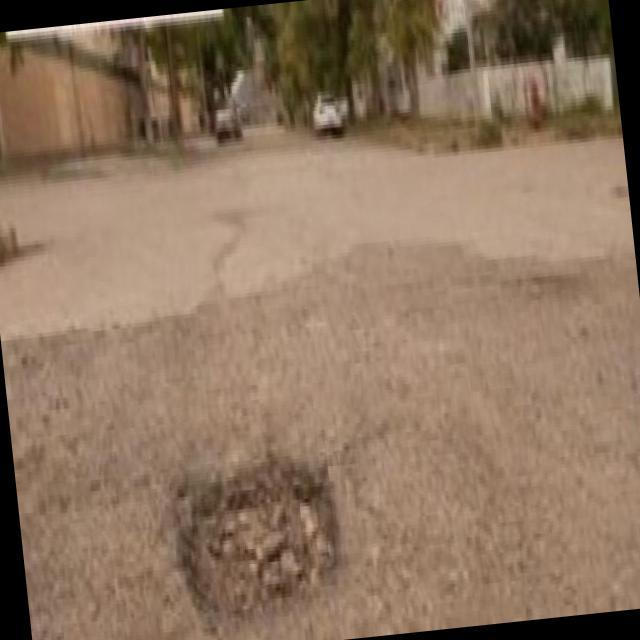Pothole: (174, 460, 336, 620)
